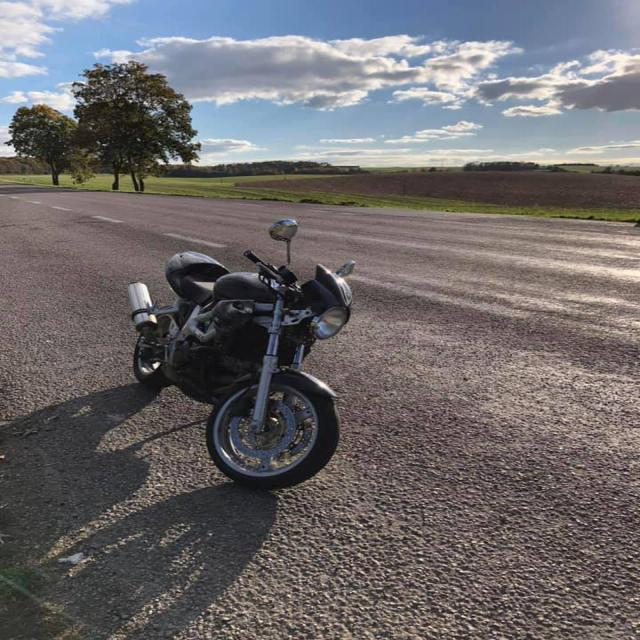Motorcycle: (128, 218, 354, 489)
Tree: (72, 60, 200, 191), (6, 104, 75, 185)
